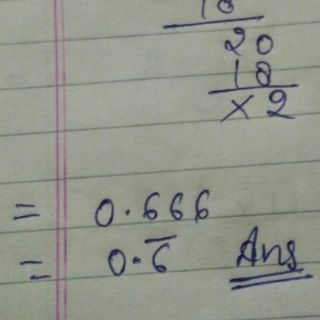.: (124, 204, 131, 217)
0: (92, 196, 117, 229), (106, 247, 128, 277), (255, 32, 275, 55)
1: (230, 58, 242, 87)
2: (266, 88, 296, 122), (224, 24, 246, 56)
6: (150, 243, 174, 274), (140, 190, 162, 221), (167, 191, 186, 220)
